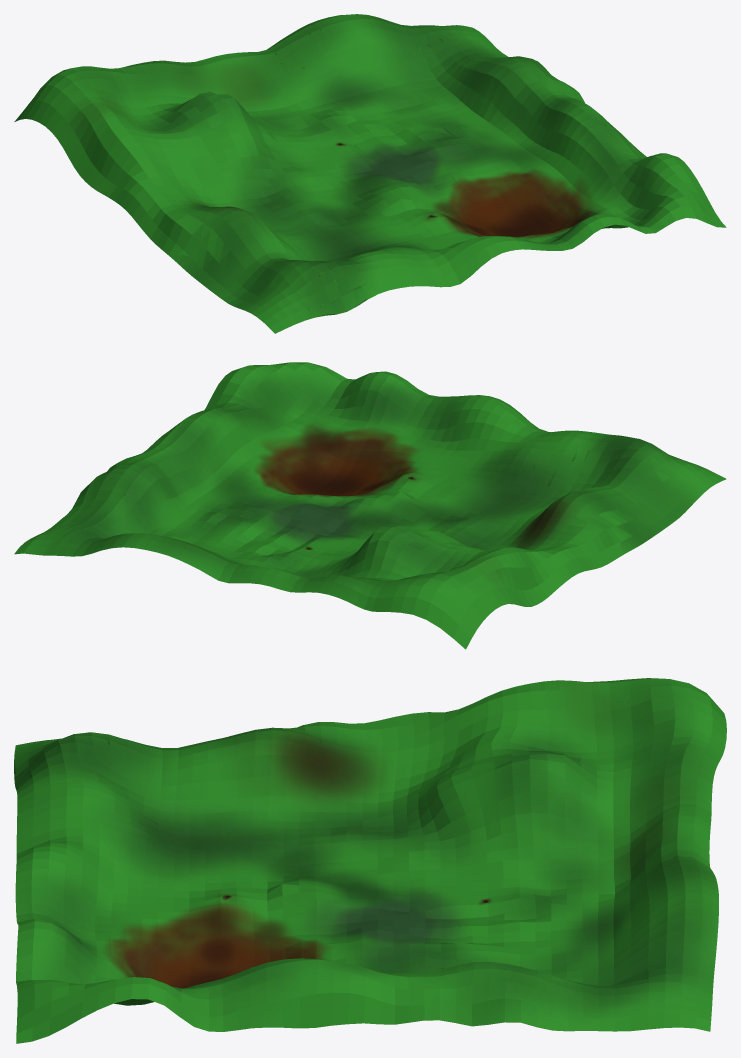
File: Level #1 Terrain.fbx
3 views of the same model, one above another, from view 1: azimuth 30°, elevation 25°; view 2: azimuth 150°, elevation 25°; view 3: azimuth 270°, elevation 25° (orthographic). The views are drawn at different scales.
Parts seen in each view (by area): view 1: Plane.001; view 2: Plane.001; view 3: Plane.001.
Part boxes in pixels (left/top/right/bottom): Plane.001: left=14, top=14, right=726, bottom=333; Plane.001: left=14, top=362, right=726, bottom=649; Plane.001: left=14, top=678, right=726, bottom=1043.
Bounding box in the file's own units: 49102 × 10476 × 49710.
1 material, 1 textured.
